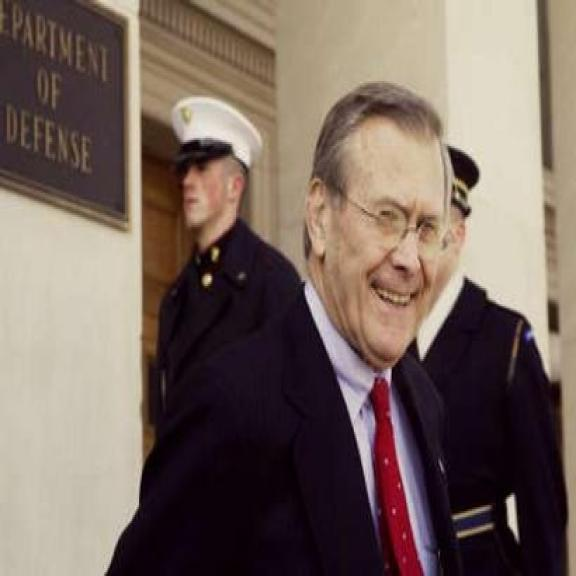face: (302, 130, 451, 365), (185, 152, 251, 230)
